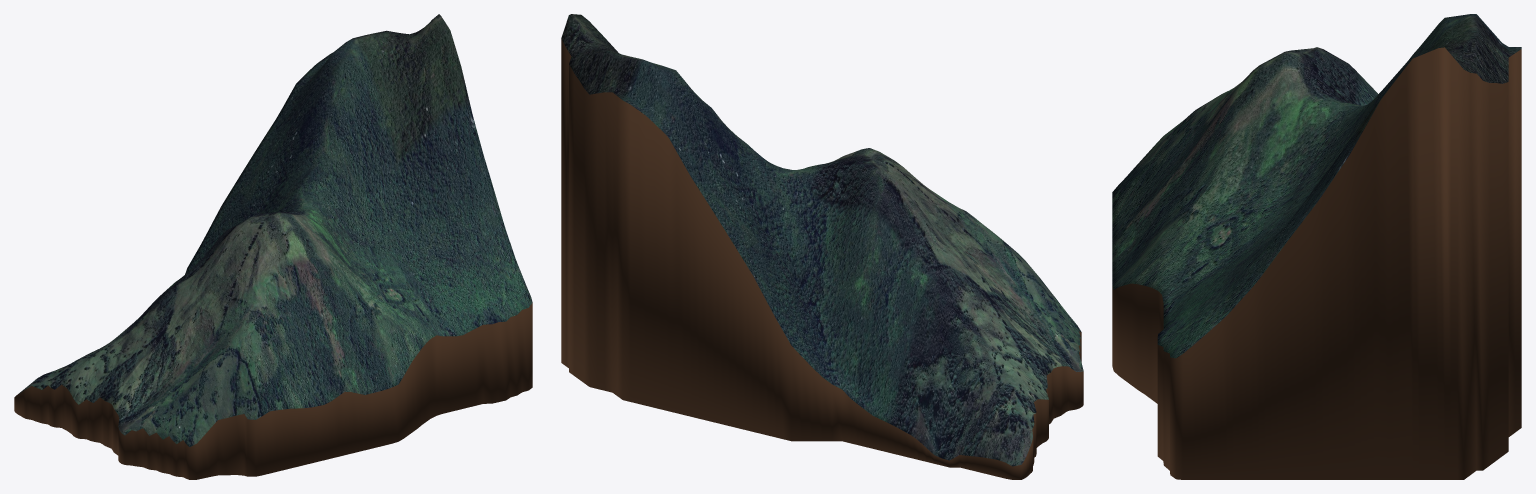
File: Montana.fbx
3 views of the same model, side by side, from view 1: azimuth 30°, elevation 25°; view 2: azimuth 150°, elevation 25°; view 3: azimuth 270°, elevation 25° (orthographic). The views are drawn at different scales.
Parts seen in each view (by area): view 1: EXPORT_GOOGLE_SAT_WM; view 2: EXPORT_GOOGLE_SAT_WM; view 3: EXPORT_GOOGLE_SAT_WM.
Boxes of the visible parts, x1,y1,x2,y2 form: EXPORT_GOOGLE_SAT_WM: (14,14,532,479); EXPORT_GOOGLE_SAT_WM: (561,14,1083,479); EXPORT_GOOGLE_SAT_WM: (1112,14,1521,479).
Bounding box in the file's own units: 203471 × 142706 × 122299.
2 materials, 1 textured.
